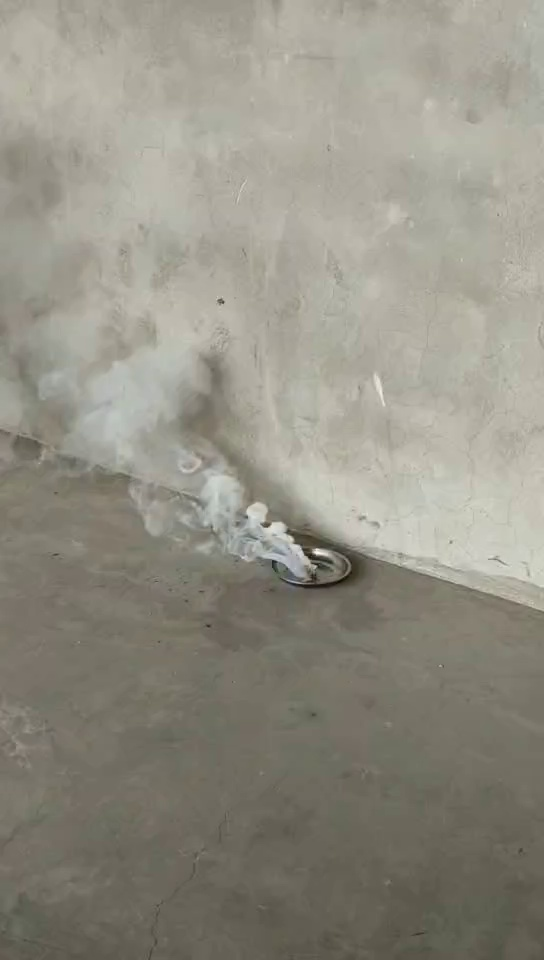yanwu: (71, 350, 309, 582)
